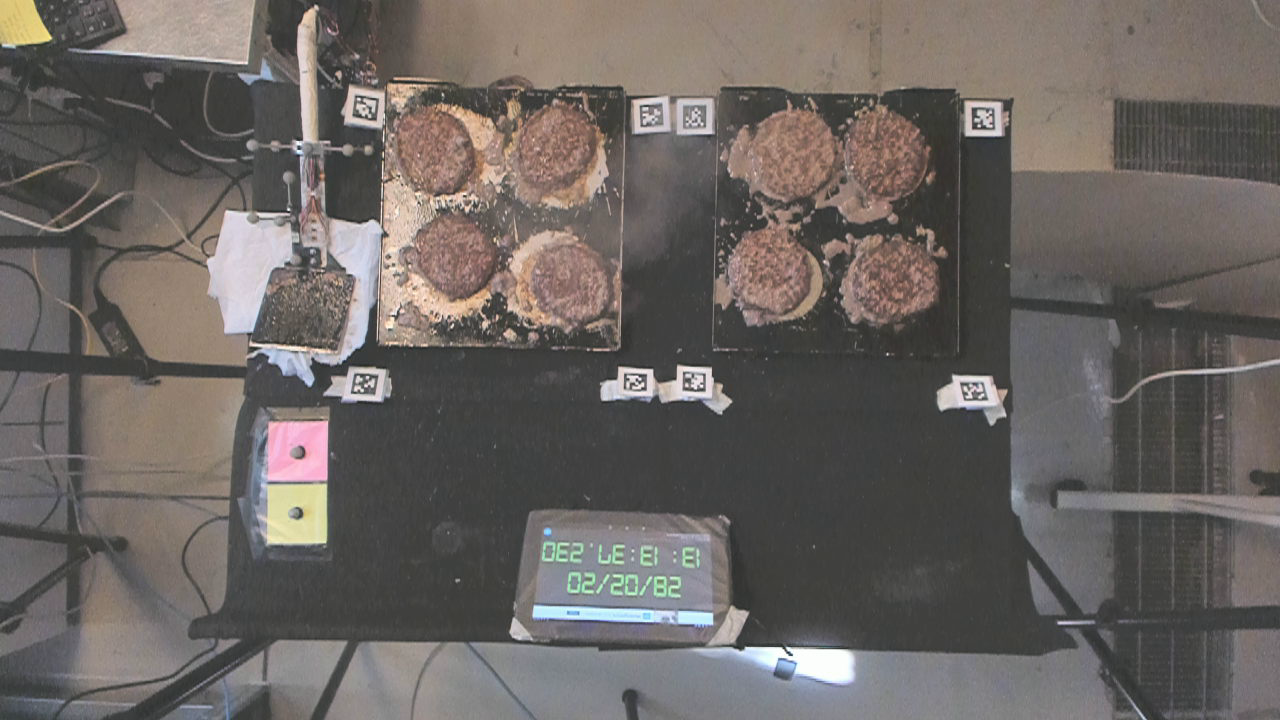hamburger: (406, 204, 494, 298), (748, 105, 836, 198), (854, 231, 939, 322), (529, 239, 613, 331), (845, 106, 929, 198), (520, 90, 598, 185), (729, 228, 812, 315), (392, 102, 471, 192)
marker: (265, 418, 328, 481)
